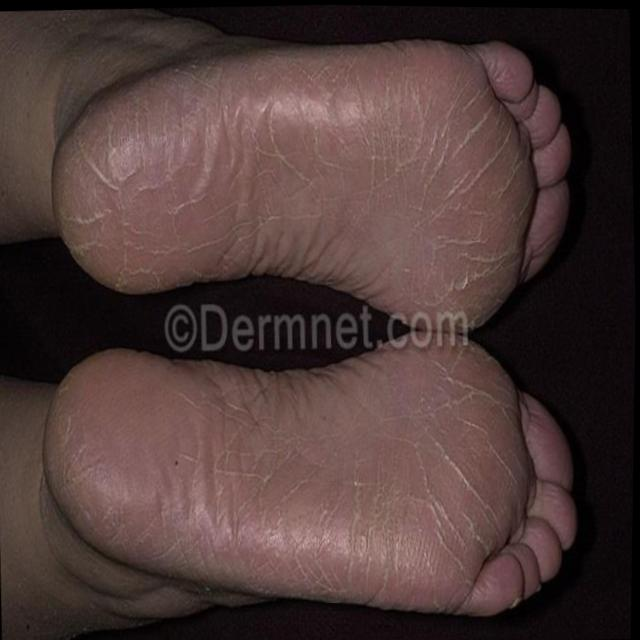liquenificacion 1: (87, 339, 532, 607), (80, 66, 529, 314)
